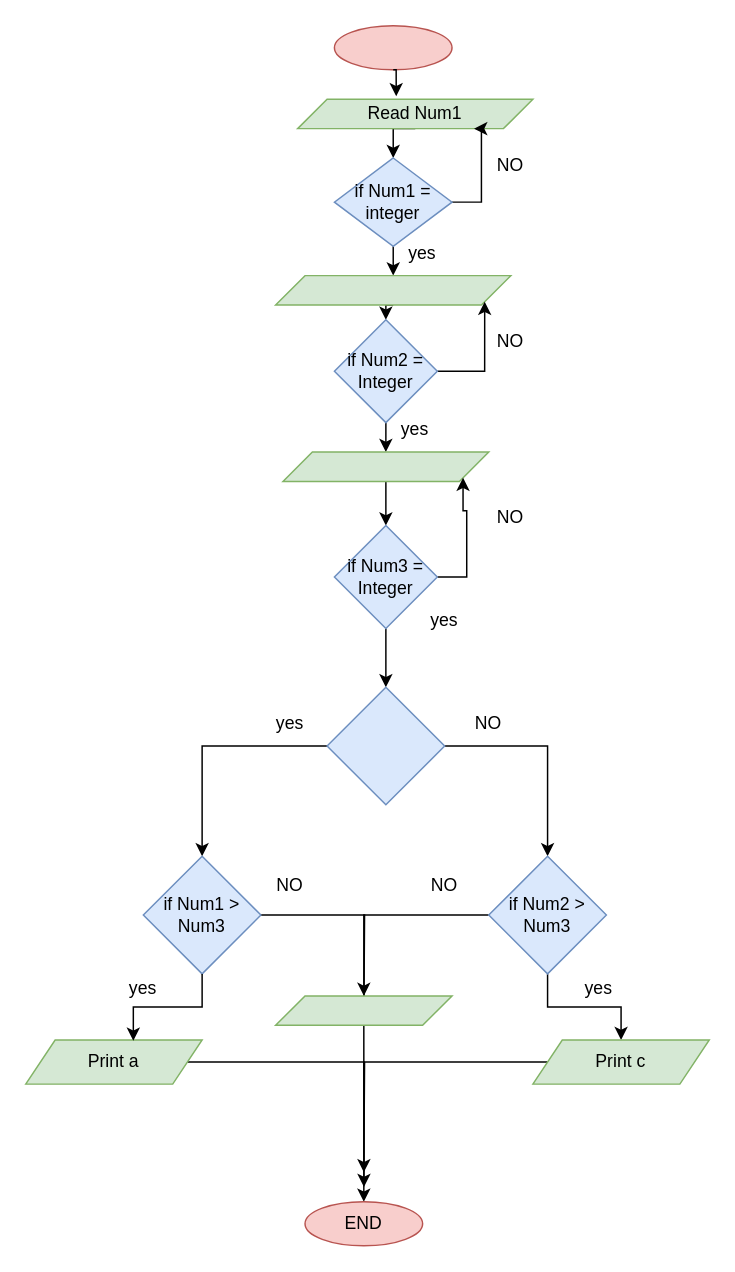
Image size: 735x1272. Some labels were removed from this diagram. The shapes that lost their labels are listed below. From the top down, each one's centre as x and y in pixels, then its label:
At (392,47): "start".
At (392,289): "Read Num2".
At (385,466): "Read Num3".
At (385,745): "if Num1 > Num2".
At (363,1009): "Print b".
